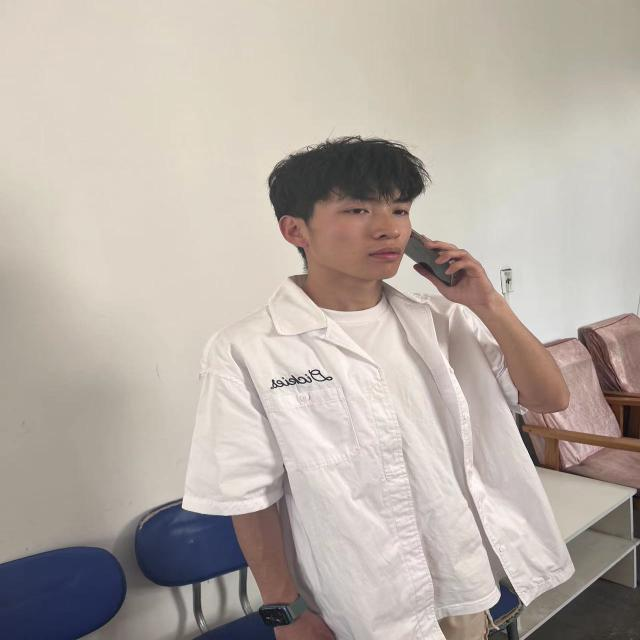phone: (406, 228, 458, 284)
